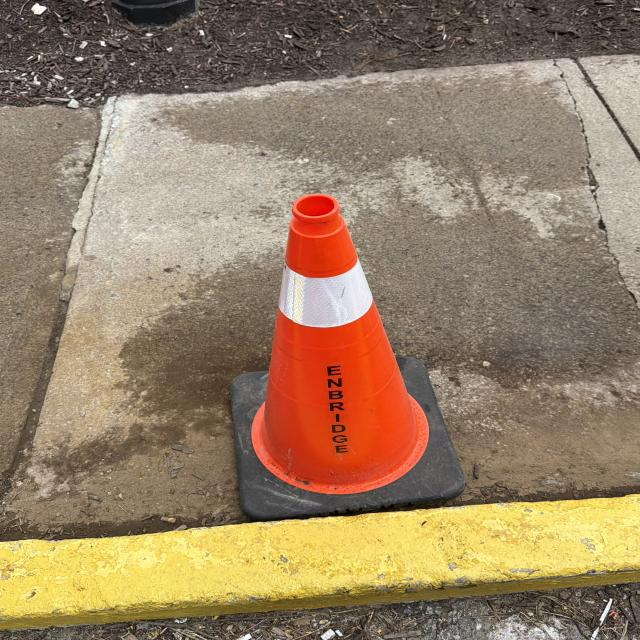Traffic Cone: (228, 193, 462, 520)
